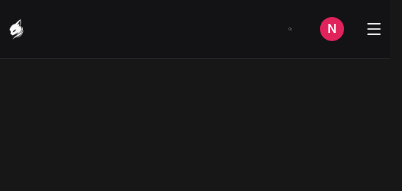
Test case: UserTopBar › hides the admin console from an account that cannot open it
Press the mouse on the button named "Account menu": x=332, y=29 [314,11,350,47]
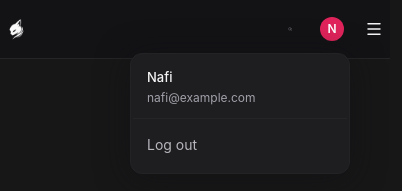
Now the menu item "Log out" is shown, box [147,136,197,153]
